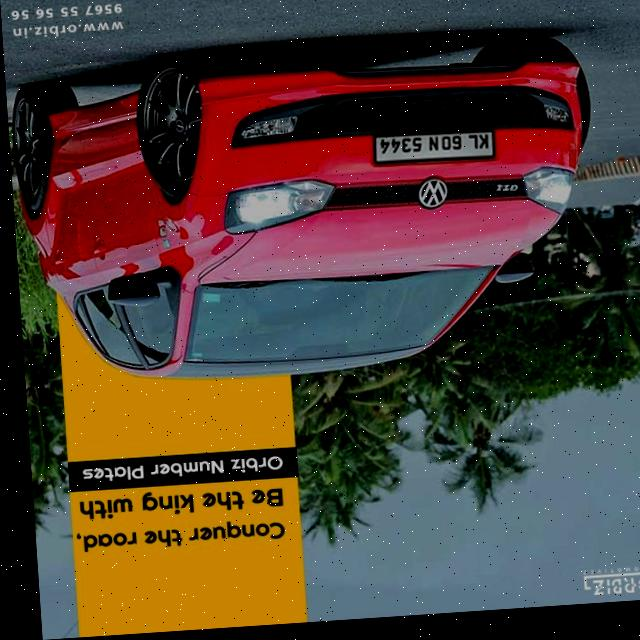plate: (371, 135, 496, 173)
